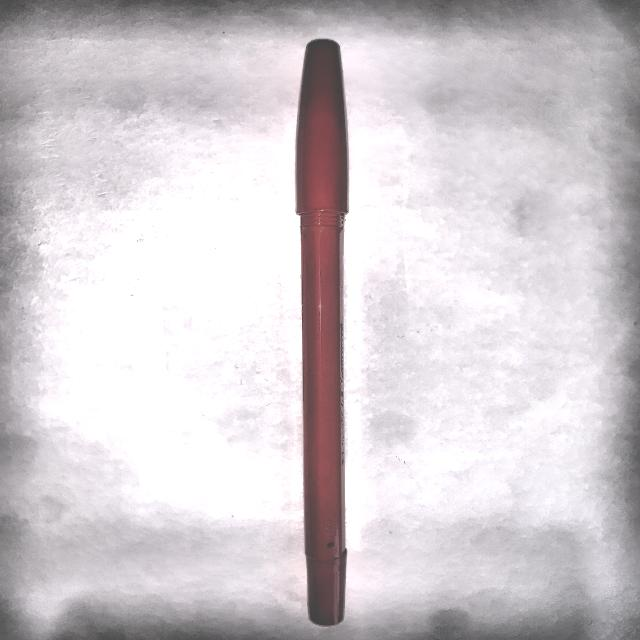Pulpen: (271, 31, 389, 636)
